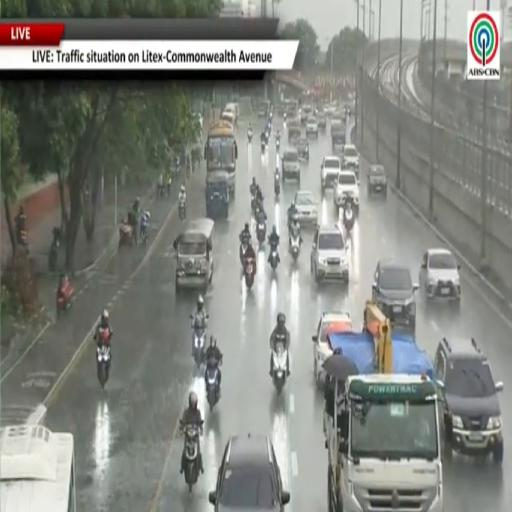bus: (0, 425, 76, 511)
car: (434, 338, 503, 465), (209, 435, 290, 511), (372, 259, 419, 335), (312, 312, 353, 386), (420, 248, 461, 300), (311, 226, 348, 283), (334, 169, 359, 212), (294, 190, 318, 226), (321, 155, 341, 191), (281, 148, 300, 182), (367, 165, 387, 197), (342, 144, 359, 181), (296, 138, 309, 161), (306, 116, 318, 137), (300, 105, 313, 123), (317, 111, 326, 130), (194, 112, 203, 130), (328, 102, 337, 115)
jeepney: (174, 218, 214, 291), (204, 121, 238, 198), (206, 171, 229, 219), (288, 120, 302, 143)
motorcycle: (180, 421, 202, 492), (206, 359, 221, 411), (273, 343, 287, 394), (48, 227, 61, 271), (192, 325, 205, 369), (57, 281, 73, 316), (97, 345, 110, 388), (119, 221, 134, 248), (48, 239, 59, 273), (244, 258, 255, 290), (343, 208, 354, 234), (290, 235, 300, 262), (269, 244, 279, 270), (256, 222, 266, 244), (288, 213, 298, 234), (240, 242, 248, 265), (17, 229, 27, 246), (274, 170, 280, 198), (140, 226, 148, 245), (179, 200, 185, 221), (251, 196, 256, 215), (248, 130, 253, 143), (261, 140, 265, 153), (276, 139, 279, 153), (283, 112, 287, 122)
truck: (324, 301, 443, 511), (324, 374, 443, 511)
